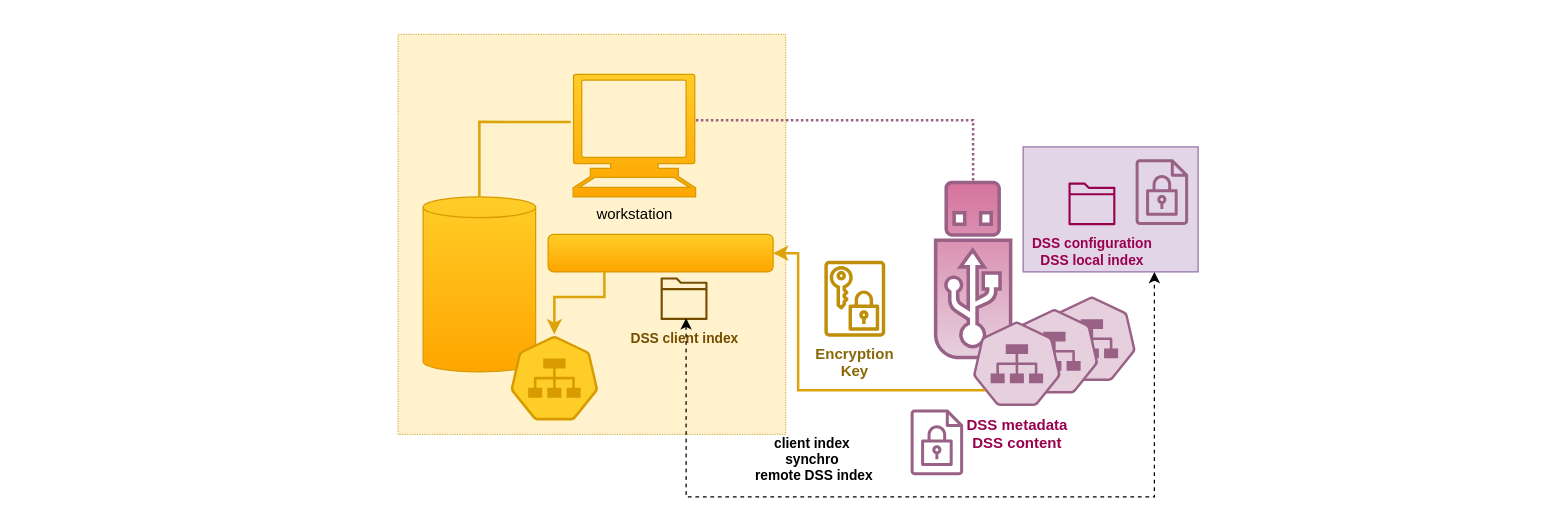
Some shapes in this 1543 by 530 pixel diagram are drawn without their labels. The centre of each missing label's shape, as x and y in pixels:
"local disk" belongs at point (479, 284).
"synchronization" belongs at point (660, 252).
